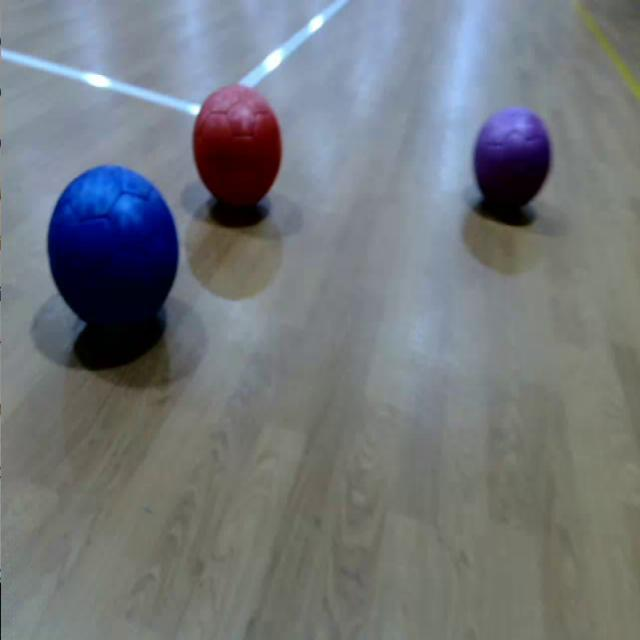blue_ball: (49, 165, 180, 337)
purple_ball: (477, 105, 550, 207)
red_ball: (190, 83, 283, 213)
